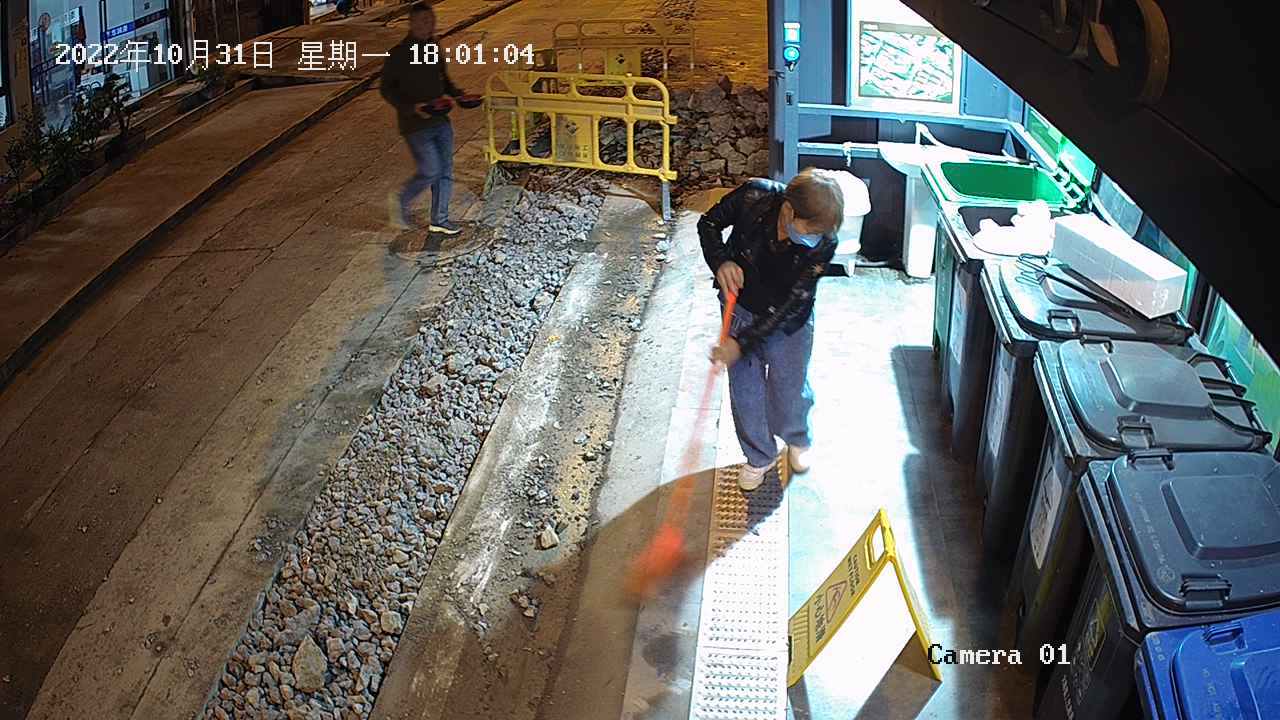person: (696, 167, 845, 492), (374, 3, 484, 236)
